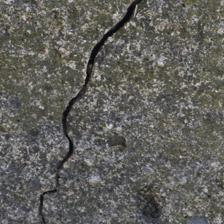Crack: (19, 2, 118, 219)
